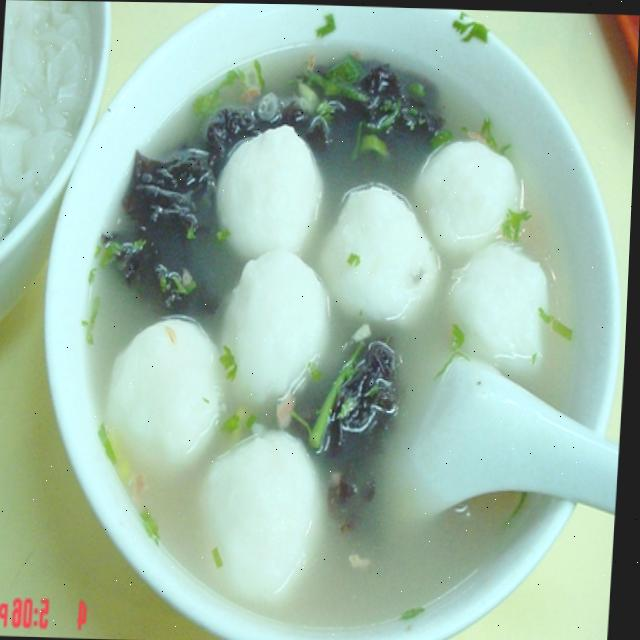熟制海鲜: (28, 1, 634, 640)
